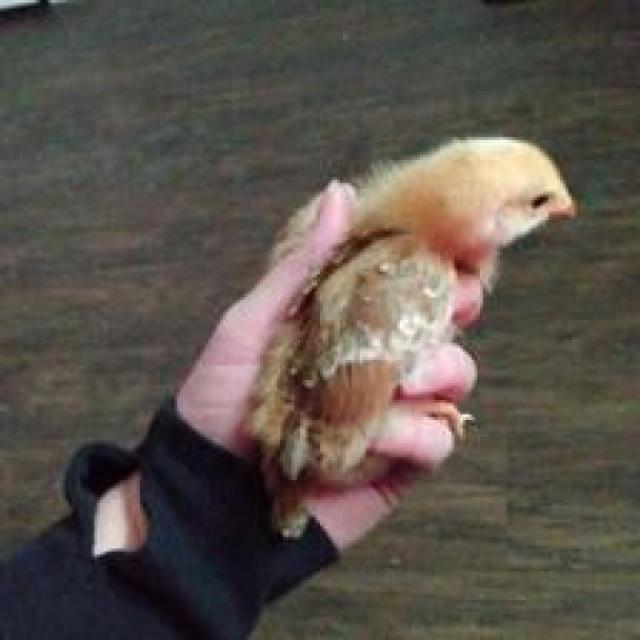Chicken: (285, 136, 599, 459)
